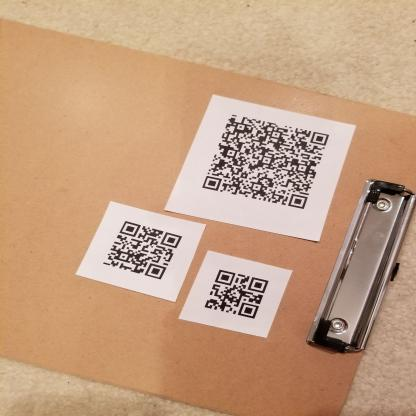qr: (199, 108, 332, 214), (100, 217, 184, 288), (202, 268, 271, 320)
